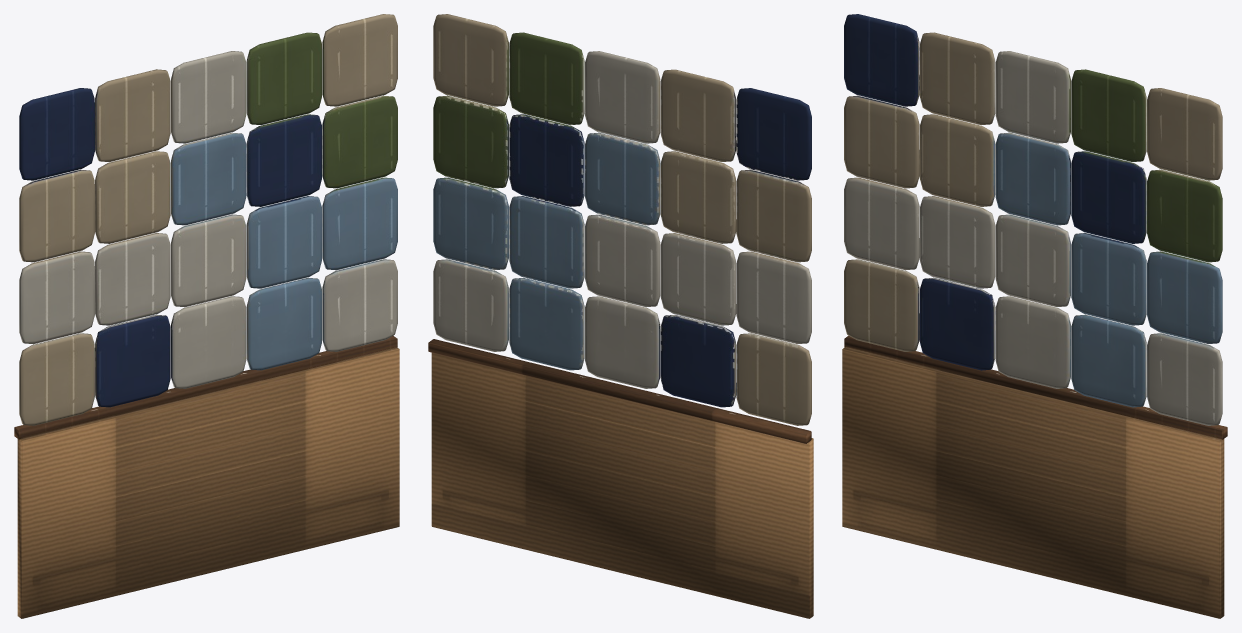
The model's file is wall_quilt_cool.glb.
3 renders of one model, left to right at view 1: azimuth 30°, elevation 25°; view 2: azimuth 150°, elevation 25°; view 3: azimuth 330°, elevation 25°, orthographic.
Visible parts, largest first — view 1: prop_wall_quilt_cool_felt, prop_wall_quilt_cool_wood; view 2: prop_wall_quilt_cool_felt, prop_wall_quilt_cool_wood; view 3: prop_wall_quilt_cool_felt, prop_wall_quilt_cool_wood.
Part boxes in pixels (x1,y1,x2,y2): prop_wall_quilt_cool_felt: [19, 14, 397, 425]; prop_wall_quilt_cool_wood: [14, 335, 399, 618]; prop_wall_quilt_cool_felt: [433, 14, 811, 425]; prop_wall_quilt_cool_wood: [428, 339, 813, 618]; prop_wall_quilt_cool_felt: [844, 14, 1222, 425]; prop_wall_quilt_cool_wood: [842, 335, 1227, 618].
Size of the model in its own units: 4 by 5.19 by 0.1386.
Materials: 2 (2 with a texture image).
